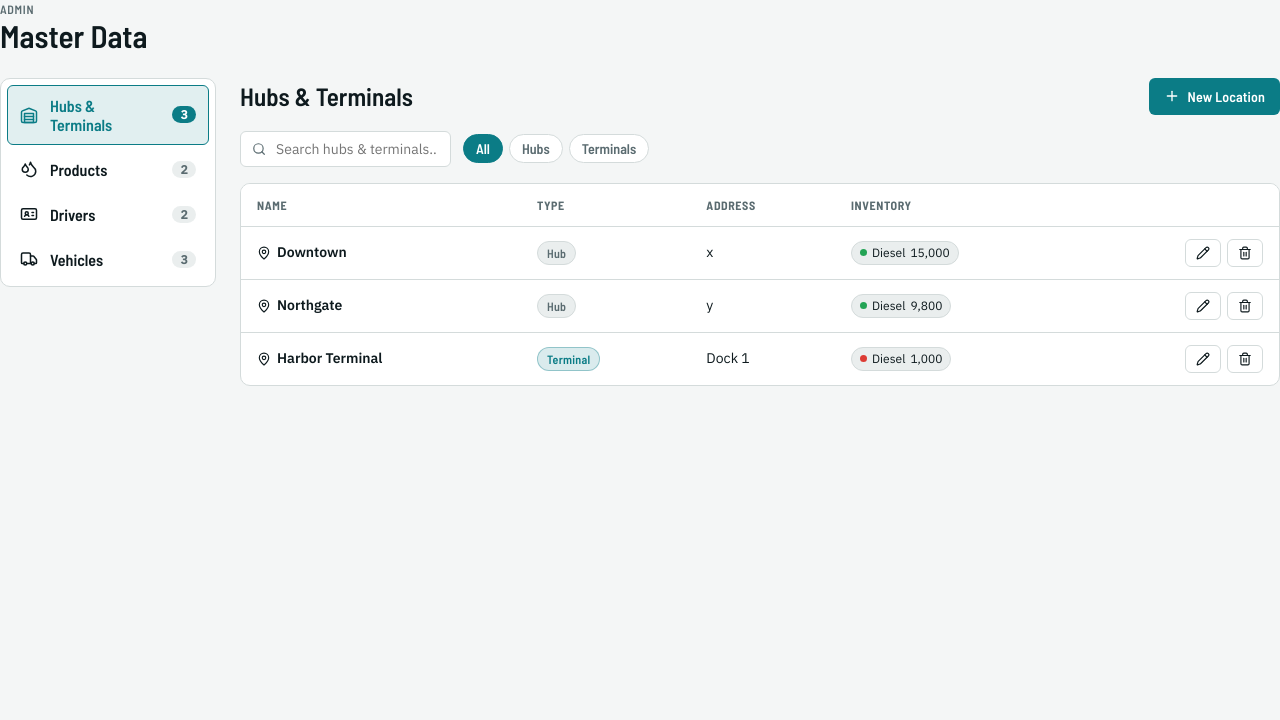
Test: MasterDataPage › keeps a vehicle when the delete confirm is cancelled
Expected: the text "Downtown" is shown, [257,243,347,261]
Click the button "Vehicles 3" at (108, 259), box [7,239,209,280]
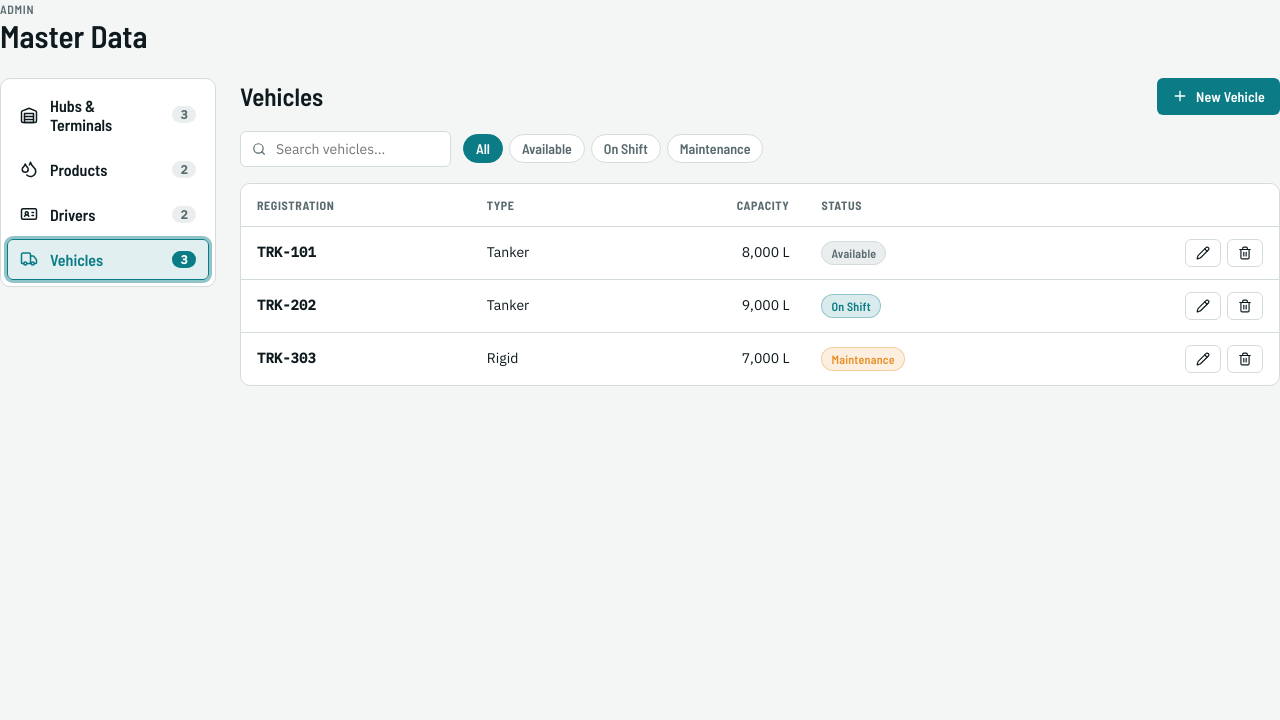
Result: the text "TRK-101" is shown at [257,243,316,261]
Click the button named "Delete" in the row of "TRK-101" at (1245, 253), box [1227,239,1263,267]
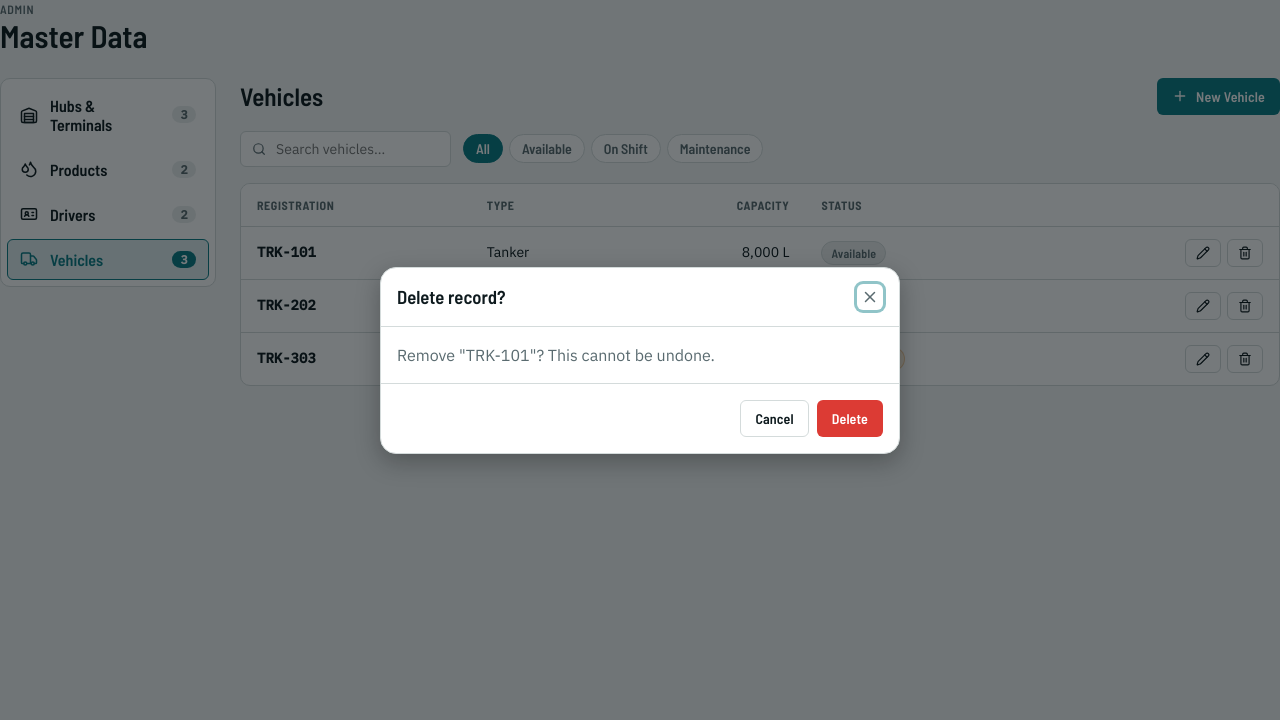
Click the button "Cancel" at (775, 418), box [740,400,809,436]
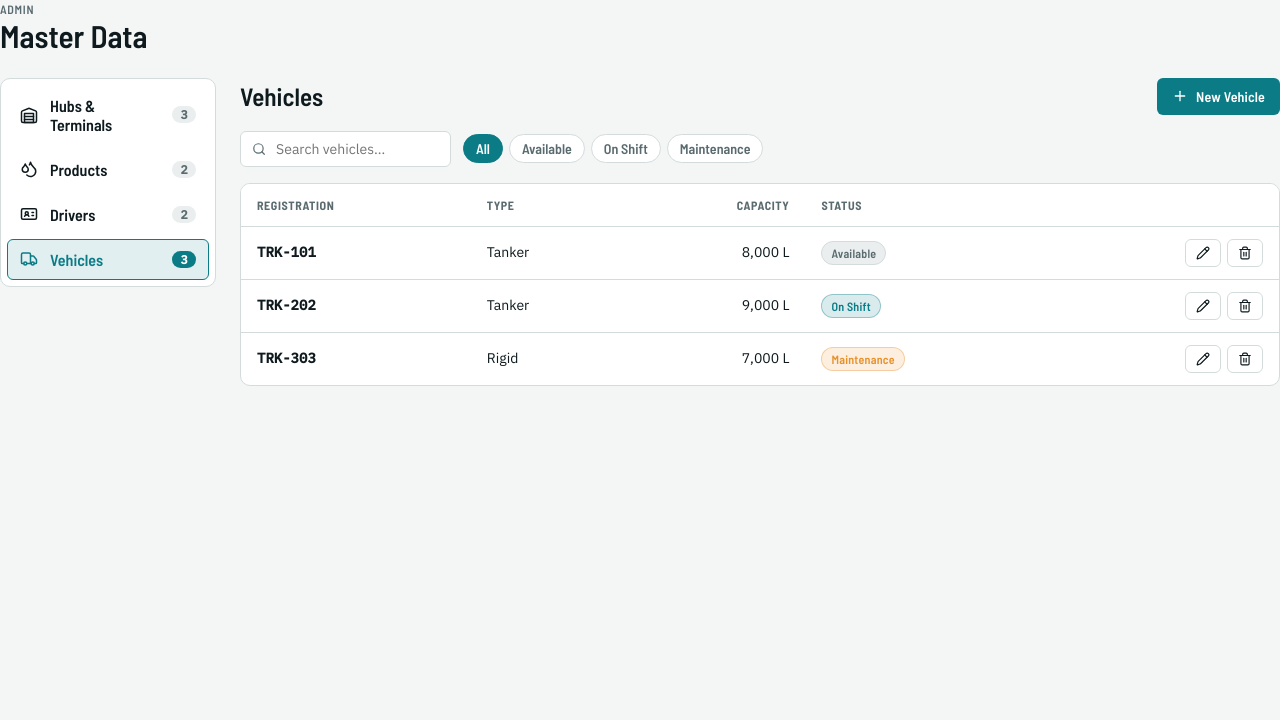
Result: the text "TRK-101" is shown at [257,243,316,261]
Result: the button "Cancel" is gone
